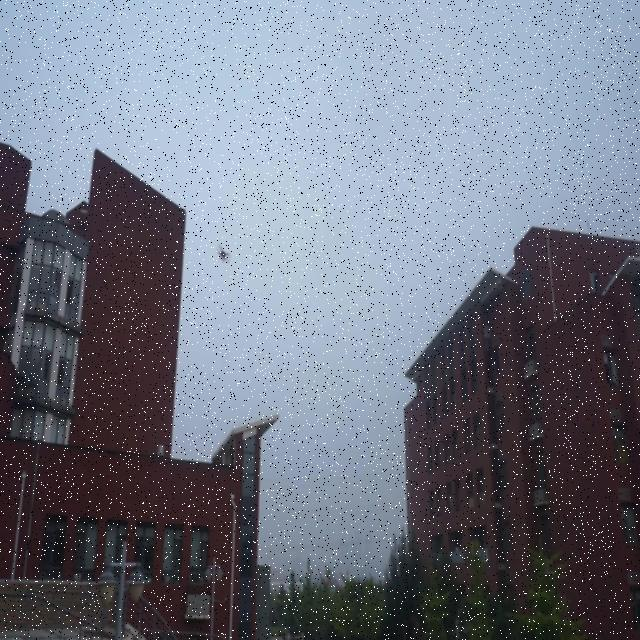UAV: (216, 244, 231, 263)
